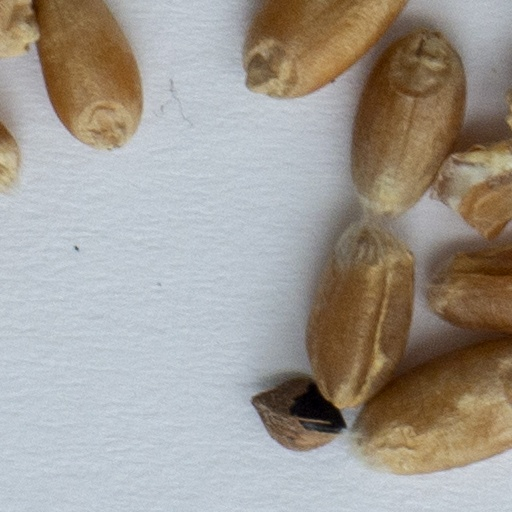Fallopia-Convolvulus-poly: (254, 377, 344, 450)
Wheat-grain-damaged-poly: (433, 142, 511, 237)
